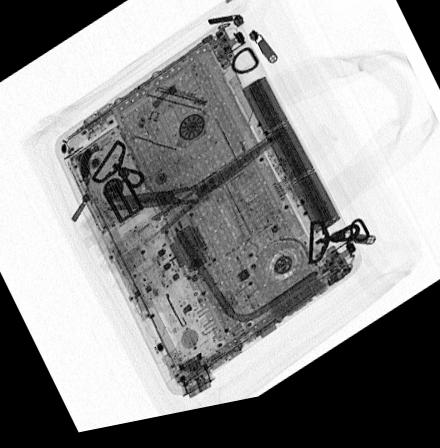Scissors: (146, 133, 287, 242), (107, 188, 208, 218)
